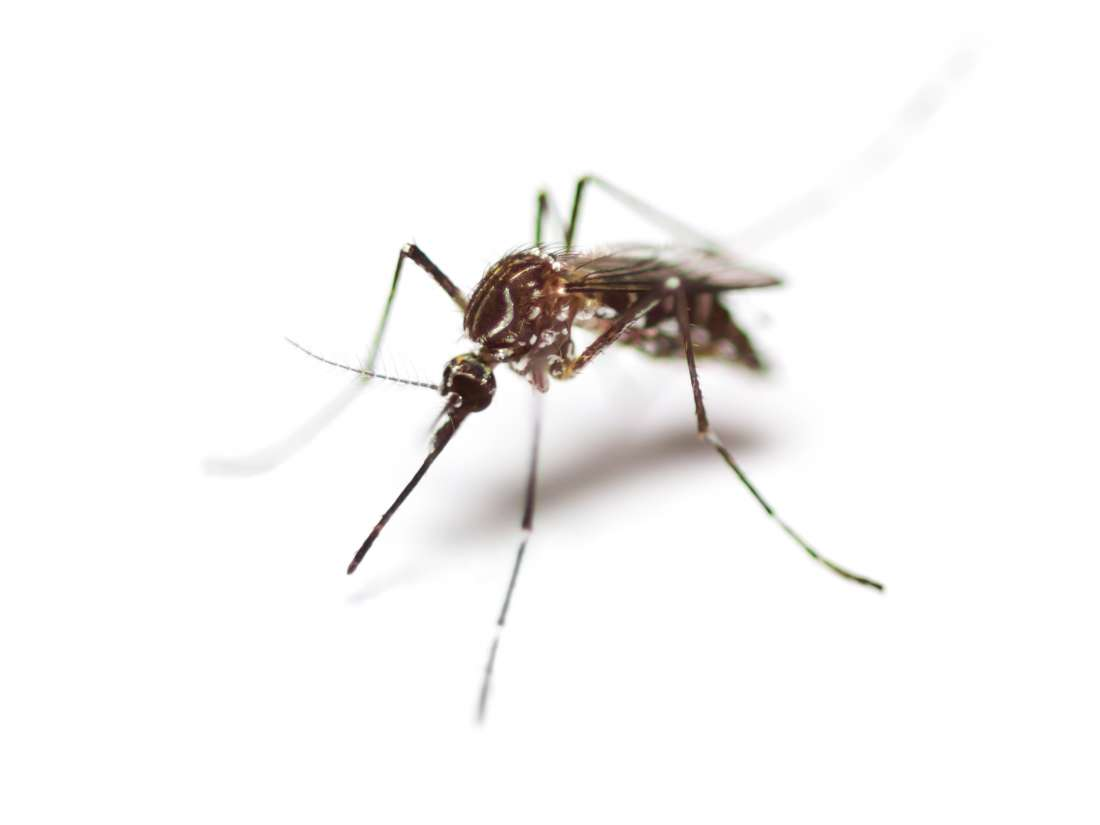mosquito: (180, 38, 928, 718)
